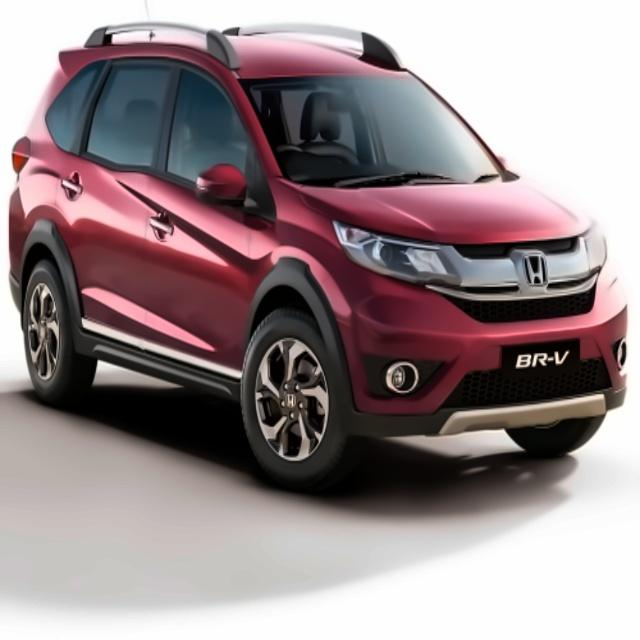Car hood: (301, 170, 600, 245)
Driver-s door - -F-R-: (131, 30, 271, 402)
Fender - -F-R-: (234, 172, 357, 418)
Fender - -R-R-: (9, 63, 82, 320)
Front bumper: (338, 283, 633, 448)
Headlight - -L-: (580, 213, 613, 277)
Headlight - -R-: (330, 214, 464, 292)
Passenger-s door - -R-R-: (43, 18, 182, 403)
Rear light - -R-: (11, 133, 30, 178)
Side bumper - -R-: (64, 317, 243, 424)
Side mirror - -R-: (197, 162, 266, 223)
